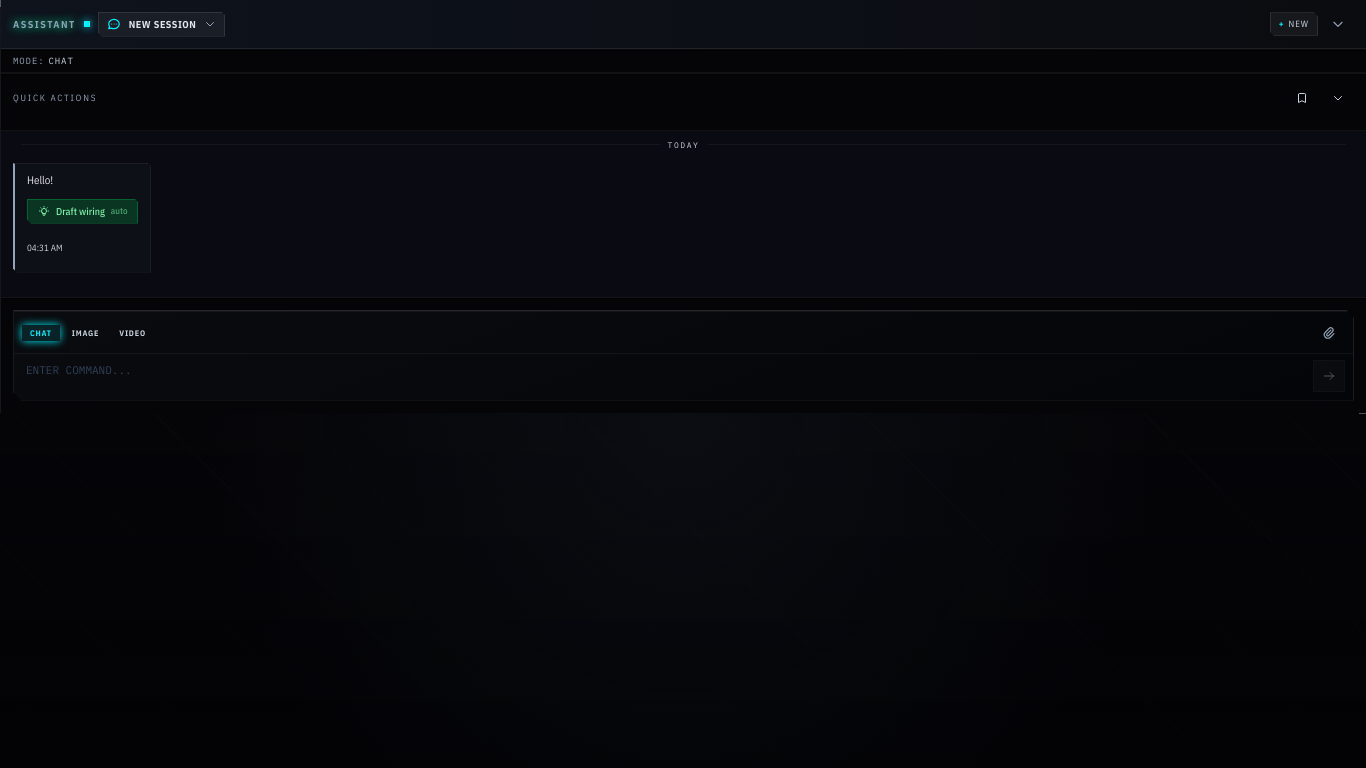
Test: ChatPanel › chatPanel_quickActions_toggleCollapsesPanel
// Toggle actions (chevron)
Step 1. Click the button named "Toggle actions" → click(1338, 98), box 1322,82 -> 1354,114
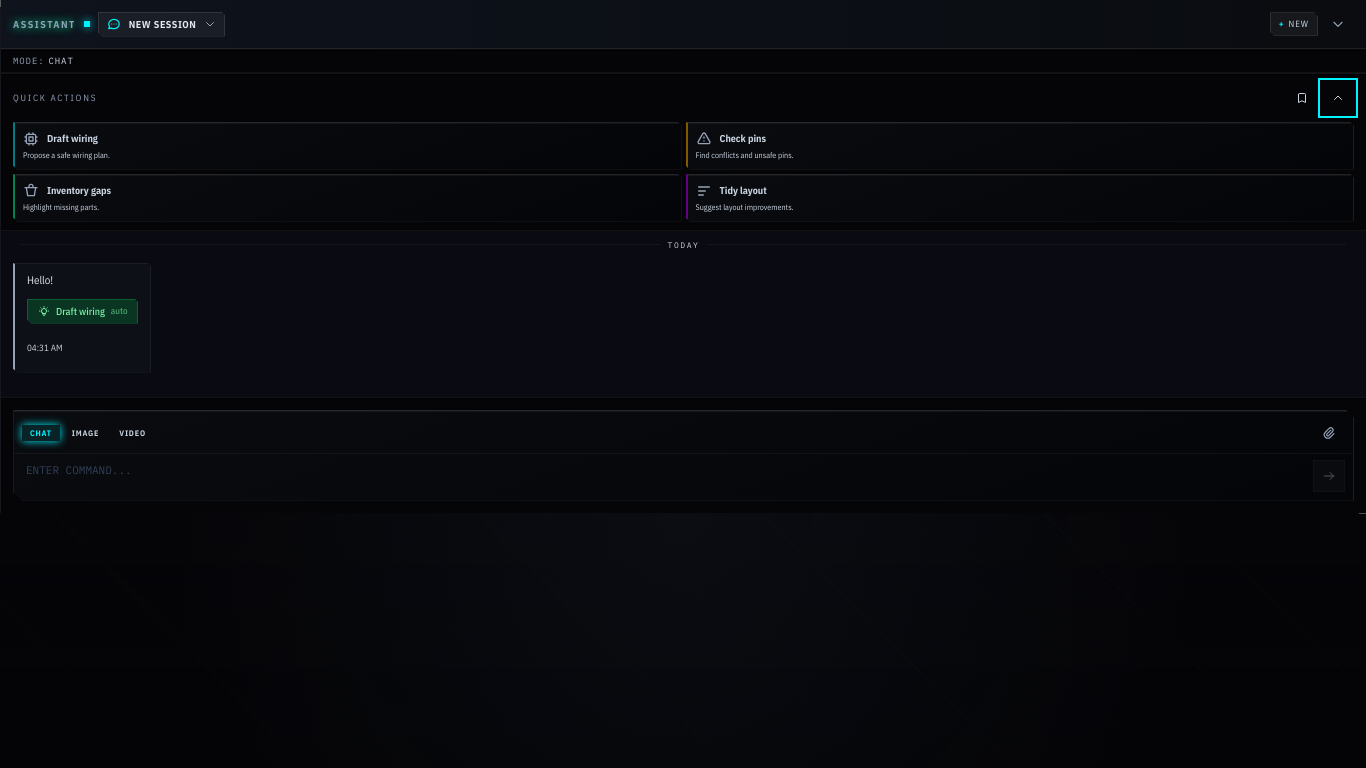
Expected: the text "Draft wiring" is shown, 23,130 -> 98,146
